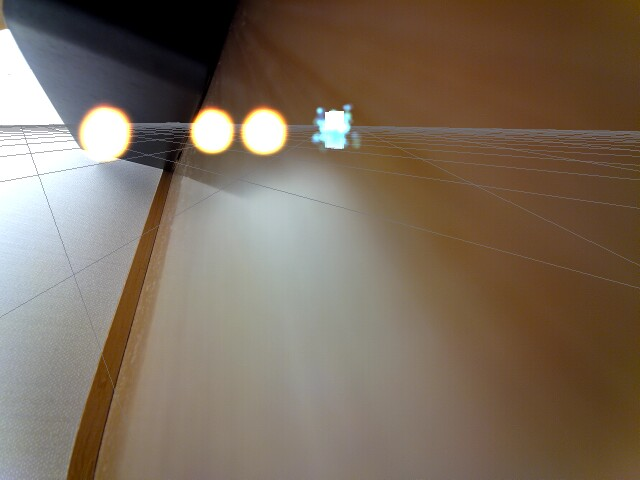firebig: (73, 101, 143, 169)
